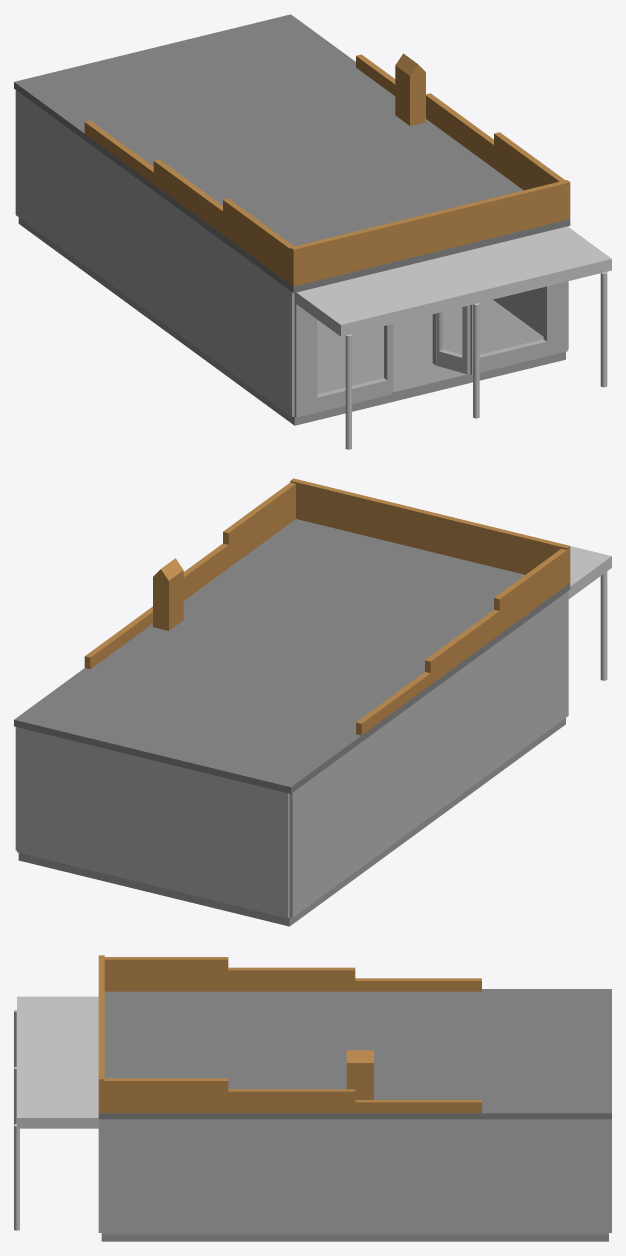
Rendered from building_phase_1a_iter_046.glb.
The picture shows the model from 3 angles, top to bottom: view 1: azimuth 30°, elevation 25°; view 2: azimuth 150°, elevation 25°; view 3: azimuth 270°, elevation 25°; orthographic projection. The views are drawn at different scales.
Parts seen in each view (by area): view 1: Roof, Wall_Left, Canopy_Roof, Foundation, Parapet_Front, Wall_Front, Parapet_Left_Level_1, Parapet_Right_Level_1, Parapet_Left_Level_2, Parapet_Right_Level_2, Chimney, Wall_Right (+6 smaller); view 2: Roof, Wall_Left, Wall_Rear, Parapet_Front, Foundation, Parapet_Left_Level_1, Parapet_Right_Level_1, Parapet_Left_Level_2, Chimney, Canopy_Roof, Parapet_Right_Level_2, Parapet_Left_Level_3 (+2 smaller); view 3: Wall_Right, Roof, Canopy_Roof, Parapet_Right_Level_1, Parapet_Left_Level_1, Foundation, Parapet_Left_Level_2, Parapet_Right_Level_2, Parapet_Left_Level_3, Parapet_Right_Level_3, Parapet_Front, Chimney (+2 smaller).
Part boxes in pixels (x1,y1,x2,y2): Roof: [14, 14, 570, 293]; Wall_Left: [15, 90, 294, 416]; Canopy_Roof: [296, 226, 611, 336]; Foundation: [18, 217, 565, 425]; Parapet_Front: [290, 180, 570, 286]; Wall_Front: [294, 281, 567, 417]; Parapet_Left_Level_1: [223, 198, 293, 283]; Parapet_Right_Level_1: [494, 132, 564, 190]; Parapet_Left_Level_2: [153, 159, 222, 234]; Parapet_Right_Level_2: [426, 93, 493, 168]; Chimney: [395, 65, 425, 125]; Wall_Right: [493, 226, 568, 349]; Roof: [14, 519, 570, 793]; Wall_Left: [289, 591, 568, 917]; Wall_Rear: [17, 727, 289, 918]; Parapet_Front: [290, 478, 570, 584]; Foundation: [18, 718, 565, 926]; Parapet_Left_Level_1: [494, 548, 567, 633]; Parapet_Right_Level_1: [223, 482, 295, 567]; Parapet_Left_Level_2: [425, 609, 499, 684]; Chimney: [153, 570, 183, 630]; Canopy_Roof: [568, 546, 611, 598]; Parapet_Right_Level_2: [183, 543, 228, 600]; Parapet_Left_Level_3: [356, 672, 430, 735]; Wall_Right: [101, 1119, 608, 1234]; Roof: [98, 989, 611, 1119]; Canopy_Roof: [17, 996, 101, 1128]; Parapet_Right_Level_1: [101, 1078, 228, 1113]; Parapet_Left_Level_1: [104, 957, 228, 991]; Foundation: [101, 1234, 608, 1241]; Parapet_Left_Level_2: [228, 967, 355, 991]; Parapet_Right_Level_2: [228, 1089, 355, 1113]; Parapet_Left_Level_3: [355, 978, 481, 991]; Parapet_Right_Level_3: [355, 1100, 481, 1113]; Parapet_Front: [98, 955, 104, 1113]; Chimney: [346, 1063, 373, 1099].
Bounding box in the file's own units: 8.68 × 6.03 × 17.68.
